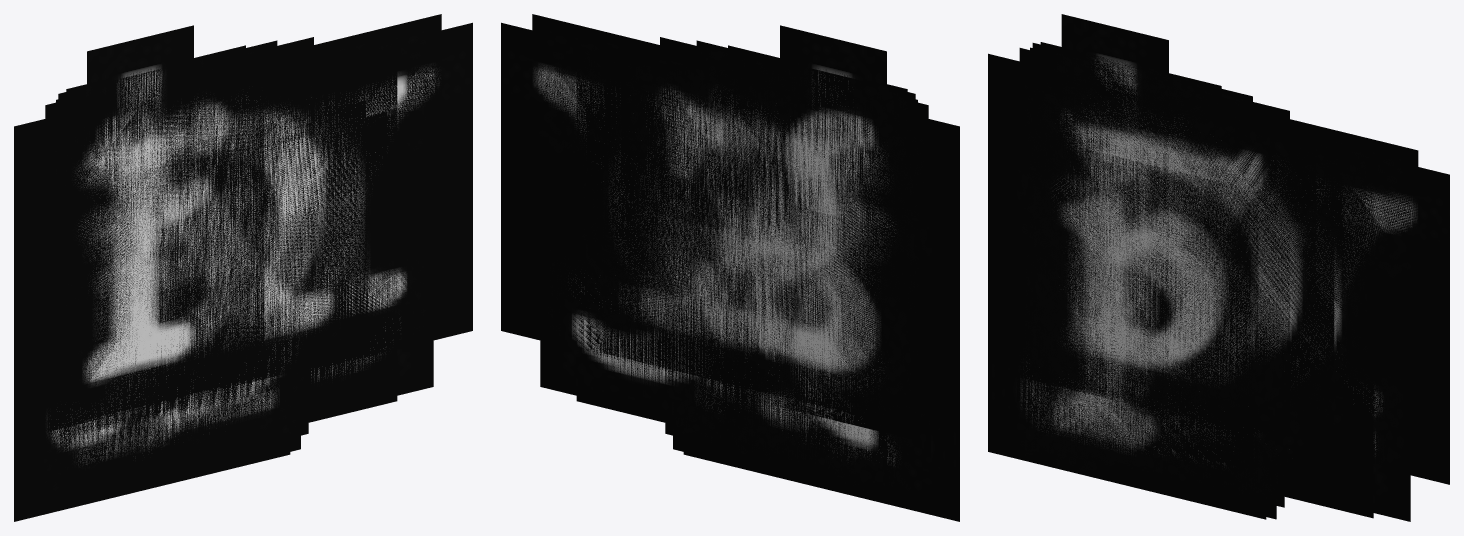
File: BriosoPro_bold_outline.fbx
3 renders of one model, left to right at view 1: azimuth 30°, elevation 25°; view 2: azimuth 150°, elevation 25°; view 3: azimuth 330°, elevation 25°, orthographic.
Parts seen in each view (by area): view 1: Untitled.073, Untitled.048, Untitled.058, Untitled.039, Untitled.035, Untitled.045, Untitled.090, Untitled.059, Untitled.083, Untitled.094, Untitled.095, Untitled.096 (+33 smaller); view 2: Untitled.096, Untitled.055, Untitled.052, Untitled.058, Untitled.027, Untitled.040, Untitled.057, Untitled.053, Untitled.077, Untitled.059, Untitled.042, Untitled.035 (+25 smaller); view 3: Untitled.083, Untitled.077, Untitled.039, Untitled.058, Untitled.061, Untitled.052, Untitled.035, Untitled.022, Untitled.007, Untitled.095, Untitled.048, Untitled.075 (+38 smaller).
Part boxes in pixels (x1,y1,x2,y2): Untitled.073: (50, 55, 264, 426); Untitled.048: (54, 14, 441, 428); Untitled.058: (40, 22, 472, 435); Untitled.039: (48, 48, 358, 406); Untitled.035: (84, 52, 397, 475); Untitled.045: (16, 124, 240, 496); Untitled.090: (48, 100, 365, 431); Untitled.059: (56, 83, 368, 388); Untitled.083: (42, 147, 282, 511); Untitled.094: (61, 48, 248, 493); Untitled.095: (87, 25, 193, 503); Untitled.096: (63, 47, 251, 475); Untitled.096: (722, 47, 910, 493); Untitled.055: (626, 42, 917, 409); Untitled.052: (540, 30, 800, 448); Untitled.058: (501, 22, 933, 436); Untitled.027: (698, 92, 910, 409); Untitled.040: (660, 37, 915, 399); Untitled.057: (600, 47, 933, 433); Untitled.053: (621, 49, 865, 370); Untitled.077: (785, 88, 959, 521); Untitled.059: (605, 48, 890, 382); Untitled.042: (603, 45, 909, 356); Untitled.035: (576, 52, 815, 454); Untitled.083: (1017, 133, 1258, 514); Untitled.077: (988, 53, 1163, 494); Untitled.039: (1024, 69, 1334, 450); Untitled.058: (1014, 80, 1449, 484); Untitled.061: (1044, 68, 1315, 442); Untitled.052: (1041, 73, 1410, 521); Untitled.035: (1045, 98, 1373, 518); Untitled.022: (1038, 84, 1250, 438); Untitled.007: (1032, 43, 1252, 469); Untitled.095: (1061, 14, 1168, 495); Untitled.048: (1027, 107, 1418, 473); Untitled.075: (1025, 58, 1276, 385).
Size of the model in its own units: 147 by 138 by 2.25e-05.
1 material, 1 textured.
